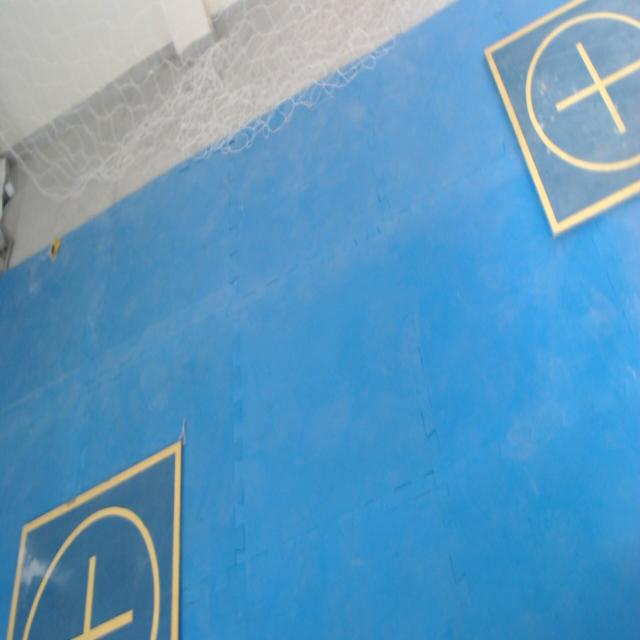base_pouso: (482, 0, 640, 236), (6, 442, 184, 639)
